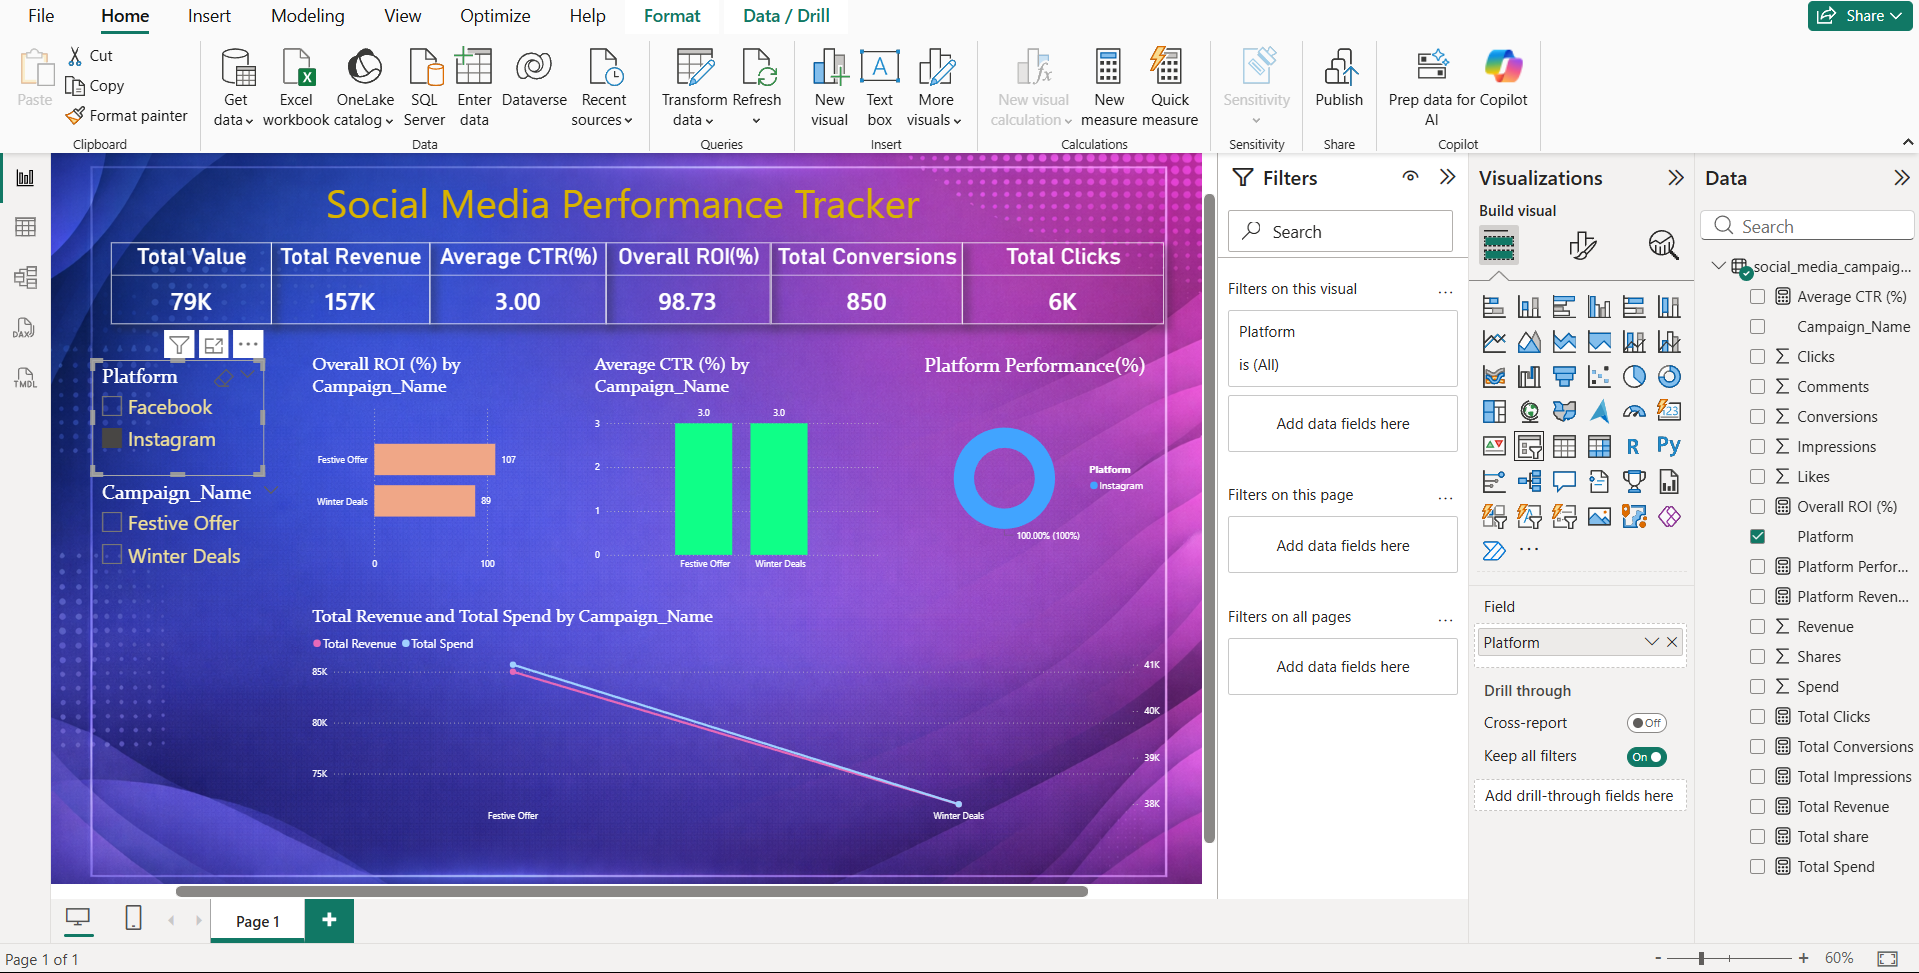

This screenshot's page, from the dashboard's own definition file:
{"tool":"powerbi","page":{"name":"Page 1","canvas":[1920,1080],"ordinal":0},"visuals":[{"type":"textbox","box":[248.5,67.7,1429.2,85.4],"z":0},{"type":"cardVisual","title":"Total Revenue","fields":{"Data":["social_media_campaign_data.Total revenue"]},"box":[486.8,162.9,211.7,108.6],"z":1000},{"type":"cardVisual","title":"Average CTR(%)","fields":{"Data":["social_media_campaign_data.Average CTR (%)"]},"box":[698.5,162.9,235.3,108.6],"z":2000},{"type":"cardVisual","title":"Overall ROI(%)","fields":{"Data":["social_media_campaign_data.Overall ROI (%)"]},"box":[933.8,162.9,219,108.6],"z":3000},{"type":"cardVisual","title":"Total Conversions","fields":{"Data":["social_media_campaign_data.Total Conversions"]},"box":[1152.8,162.9,255.2,108.6],"z":4000},{"type":"slicer","fields":{"Values":["social_media_campaign_data.Platform"]},"box":[248.6,320,230,154.3],"z":5000},{"type":"slicer","fields":{"Values":["social_media_campaign_data.Campaign_Name"]},"box":[248.6,474.3,261.4,275.7],"z":6000},{"type":"barChart","fields":{"Y":["social_media_campaign_data.Overall ROI (%)"],"Category":["social_media_campaign_data.Campaign_Name"]},"box":[537.1,310,367.1,300],"z":7000},{"type":"columnChart","fields":{"Y":["social_media_campaign_data.Average CTR (%)"],"Category":["social_media_campaign_data.Campaign_Name"]},"box":[912.9,310,388.6,300],"z":8000},{"type":"donutChart","title":"Platform Performance(%)","fields":{"Category":["social_media_campaign_data.Platform"],"Y":["social_media_campaign_data.Platform Performance %"]},"box":[1347.1,310,317.1,302.9],"z":9000},{"type":"lineChart","fields":{"Category":["social_media_campaign_data.Campaign_Name"],"Y2":["social_media_campaign_data.Total Spend"],"Y":["social_media_campaign_data.Total revenue"]},"box":[537.1,647.1,1140,300],"z":10000},{"type":"cardVisual","title":"Total Value","fields":{"Data":["social_media_campaign_data.Total Spend"]},"box":[272.9,162.9,214.3,108.6],"z":11000},{"type":"cardVisual","title":"Total Clicks","fields":{"Data":["social_media_campaign_data.Total Clicks"]},"box":[1408.6,162.9,268.6,108.6],"z":11001}]}

Visuals, with their boxes on the page's 1920x1080 design canvas (x1, y1, x2, y2). These are canvas units, not pixel positions in the 1919x973 screenshot, which may show the page scaled, cropped or inside an application window:
textbox: x1=248 y1=68 x2=1678 y2=153
"Total Revenue" cardVisual: x1=487 y1=163 x2=698 y2=272
"Average CTR(%)" cardVisual: x1=698 y1=163 x2=934 y2=272
"Overall ROI(%)" cardVisual: x1=934 y1=163 x2=1153 y2=272
"Total Conversions" cardVisual: x1=1153 y1=163 x2=1408 y2=272
slicer - social_media_campaign_data.Platform: x1=249 y1=320 x2=479 y2=474
slicer - social_media_campaign_data.Campaign_Name: x1=249 y1=474 x2=510 y2=750
barChart - social_media_campaign_data.Overall ROI (%) x social_media_campaign_data.Campaign_Name: x1=537 y1=310 x2=904 y2=610
columnChart - social_media_campaign_data.Average CTR (%) x social_media_campaign_data.Campaign_Name: x1=913 y1=310 x2=1302 y2=610
"Platform Performance(%)" donutChart: x1=1347 y1=310 x2=1664 y2=613
lineChart - social_media_campaign_data.Campaign_Name x social_media_campaign_data.Total Spend: x1=537 y1=647 x2=1677 y2=947
"Total Value" cardVisual: x1=273 y1=163 x2=487 y2=272
"Total Clicks" cardVisual: x1=1409 y1=163 x2=1677 y2=272
